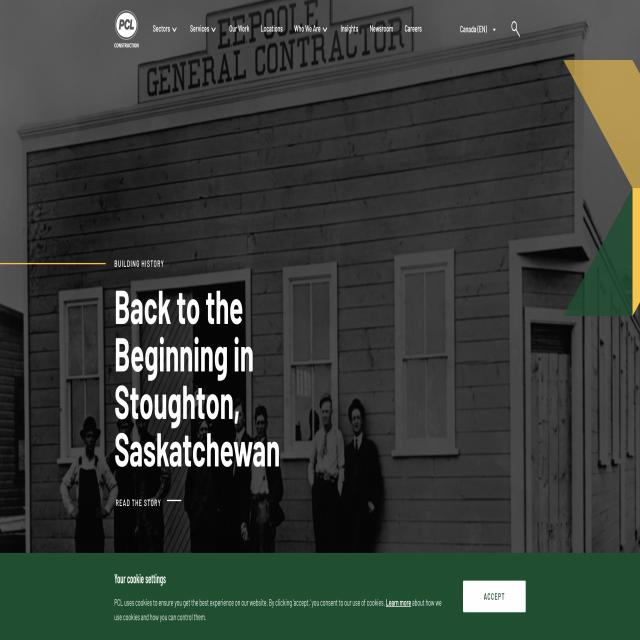Logo: (108, 8, 144, 67)
Navigation: (152, 18, 567, 44)
